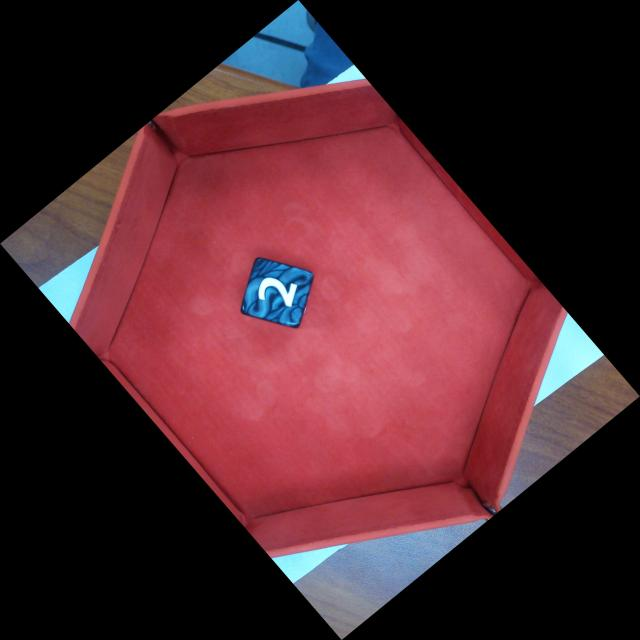dice: (243, 255, 314, 328)
